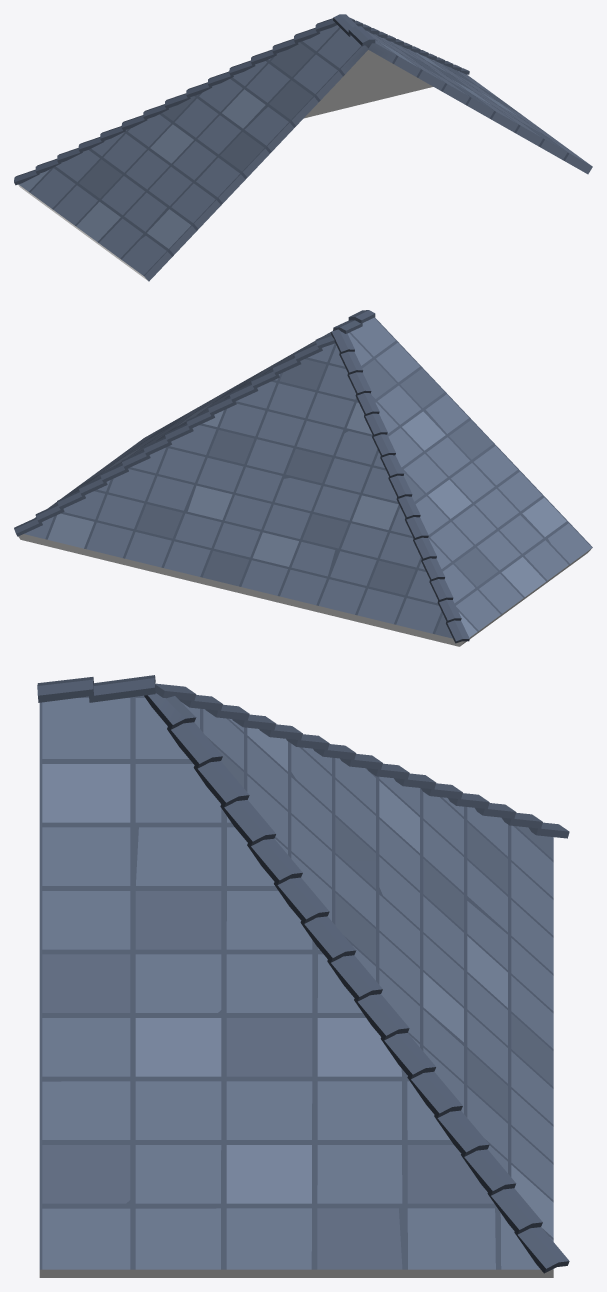
The model's file is Roof1_C7_02.fbx.
3 views of the same model, one above another, from view 1: azimuth 30°, elevation 25°; view 2: azimuth 150°, elevation 25°; view 3: azimuth 270°, elevation 25° (orthographic). The views are drawn at different scales.
Visible parts, largest first — view 1: Roof1_C7_02; view 2: Roof1_C7_02; view 3: Roof1_C7_02.
Boxes of the visible parts, box(x1,y1,x2,y2) form: Roof1_C7_02: box(14, 14, 592, 281); Roof1_C7_02: box(14, 310, 592, 646); Roof1_C7_02: box(37, 675, 569, 1277).
Size of the model in its own units: 5.73 by 2.32 by 2.9.
